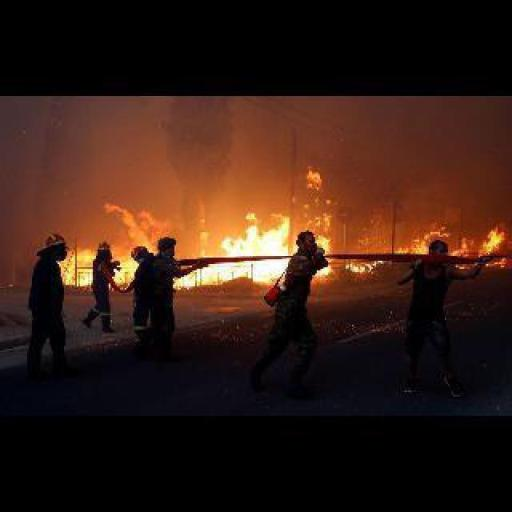smoke: (195, 162, 339, 298), (54, 202, 194, 291), (346, 216, 508, 278)
